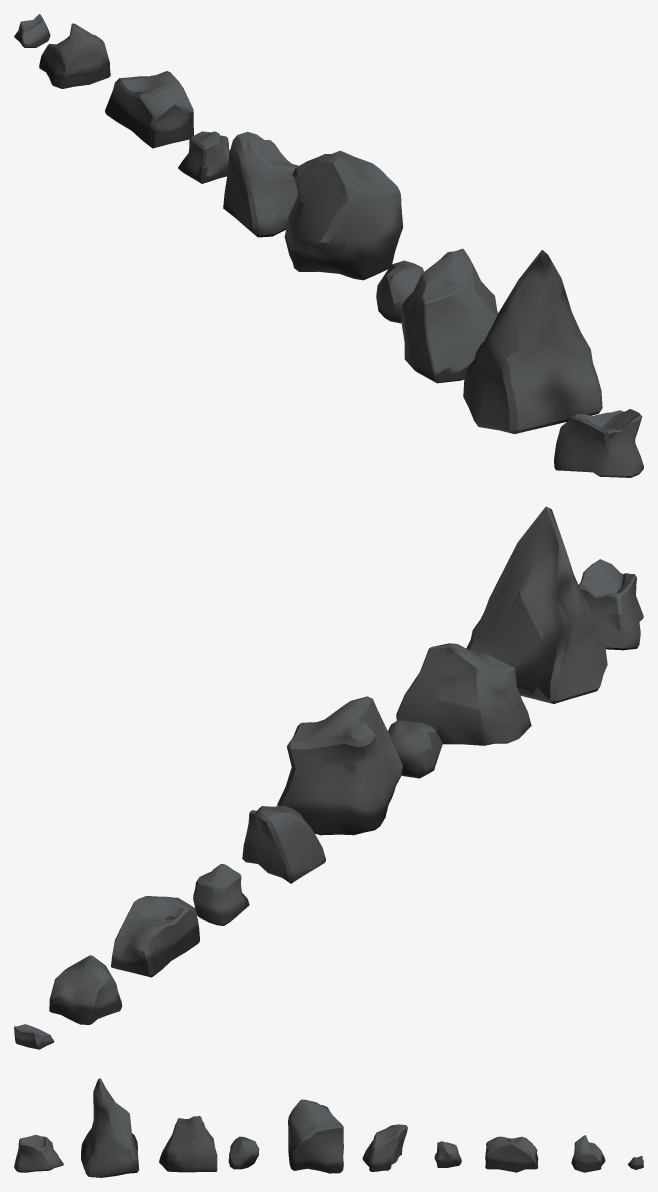
The model's file is DumbRock.fbx.
3 renders of one model, top to bottom at view 1: azimuth 30°, elevation 25°; view 2: azimuth 150°, elevation 25°; view 3: azimuth 270°, elevation 25°, orthographic. The views are drawn at different scales.
Visible parts, largest first — view 1: Cube.014, Cube.019, Cube.017, Cube.016, Cube.011, Cube.013, Cube.012, Cube.015, Cube.018, Cube.010; view 2: Cube.014, Cube.019, Cube.017, Cube.013, Cube.016, Cube.011, Cube.012, Cube.015, Cube.018; view 3: Cube.014, Cube.019, Cube.017, Cube.013, Cube.016, Cube.011, Cube.012, Cube.018, Cube.015, Cube.010.
Part boxes in pixels (x1,y1,x2,y2): Cube.014: (463,250,602,433); Cube.019: (284,150,402,280); Cube.017: (401,248,498,383); Cube.016: (223,131,298,237); Cube.011: (554,409,643,477); Cube.013: (105,71,193,148); Cube.012: (39,23,110,88); Cube.015: (178,131,229,183); Cube.018: (376,260,423,323); Cube.010: (14,14,50,47); Cube.014: (466,506,607,703); Cube.019: (277,696,402,835); Cube.017: (396,643,531,745); Cube.013: (111,896,199,977); Cube.016: (242,805,325,883); Cube.011: (579,559,643,650); Cube.012: (49,955,122,1024); Cube.015: (193,864,249,925); Cube.018: (388,720,442,778); Cube.014: (81,1078,139,1177); Cube.019: (288,1099,343,1173); Cube.017: (159,1116,217,1172); Cube.013: (485,1136,538,1172); Cube.016: (362,1124,407,1171); Cube.011: (14,1134,63,1172); Cube.012: (571,1135,605,1172); Cube.018: (228,1136,259,1169); Cube.015: (434,1141,461,1167); Cube.010: (628,1156,643,1169).
Size of the model in its own units: 23.53 by 2.62 by 3.72.
